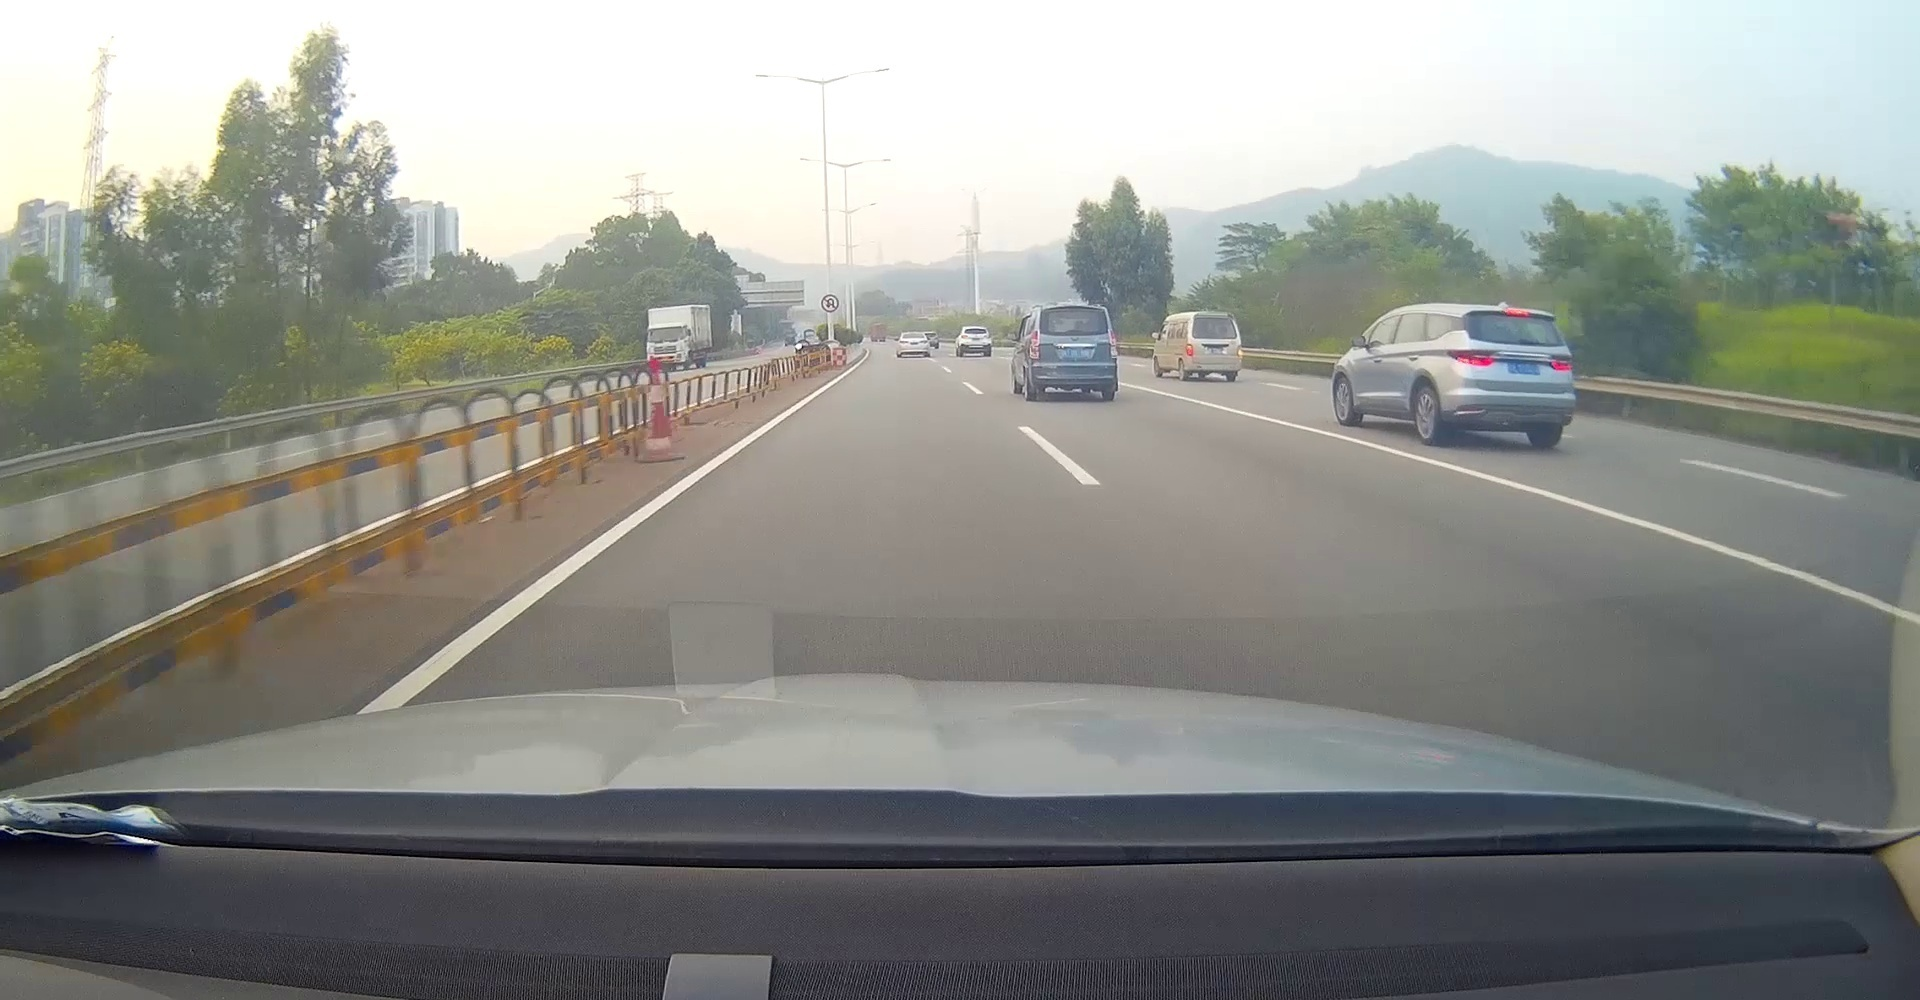L_light: (1448, 349, 1495, 367), (1029, 329, 1039, 358), (1186, 344, 1192, 357), (899, 340, 908, 344), (961, 335, 968, 338)
R_light: (1548, 358, 1573, 371), (1109, 327, 1117, 358), (1237, 345, 1242, 357), (919, 340, 928, 343), (983, 335, 990, 338)
T_light: (1503, 308, 1530, 317), (1067, 330, 1081, 332), (1210, 319, 1220, 321), (971, 327, 979, 330), (910, 334, 916, 335)
day-brake: (1445, 305, 1576, 449), (1183, 311, 1243, 382)
day-no: (1027, 303, 1117, 401), (957, 326, 992, 357), (897, 332, 930, 358)
